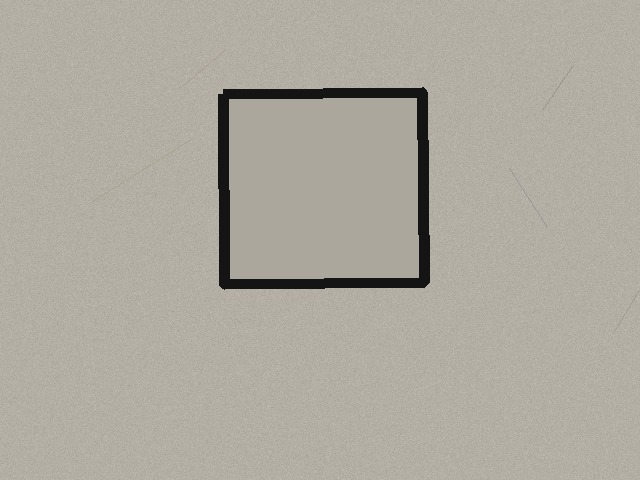parking_area: (223, 92, 424, 284)
